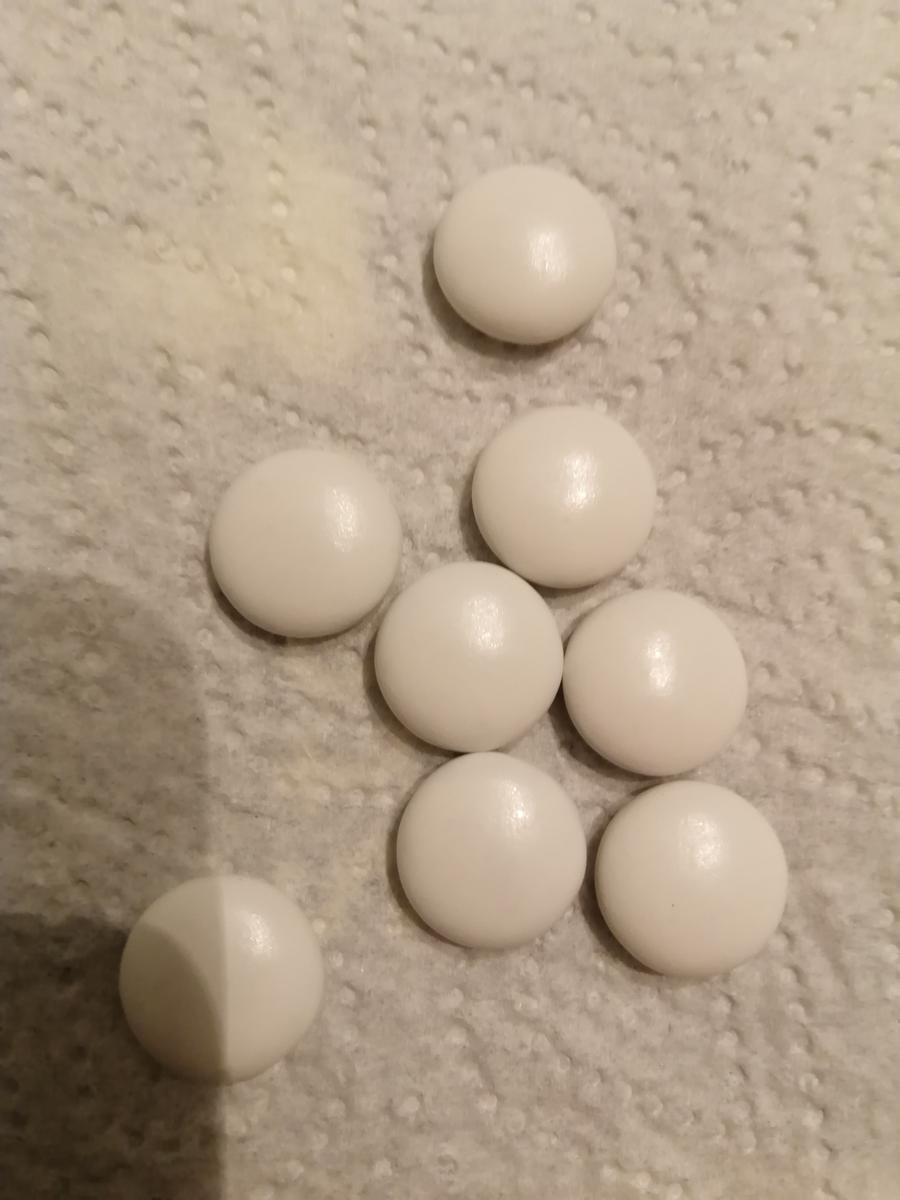tablet: (189, 421, 403, 644), (586, 769, 793, 980), (556, 576, 762, 785), (120, 873, 318, 1076), (389, 749, 593, 945), (468, 399, 668, 594), (374, 557, 568, 749), (436, 161, 618, 345)
